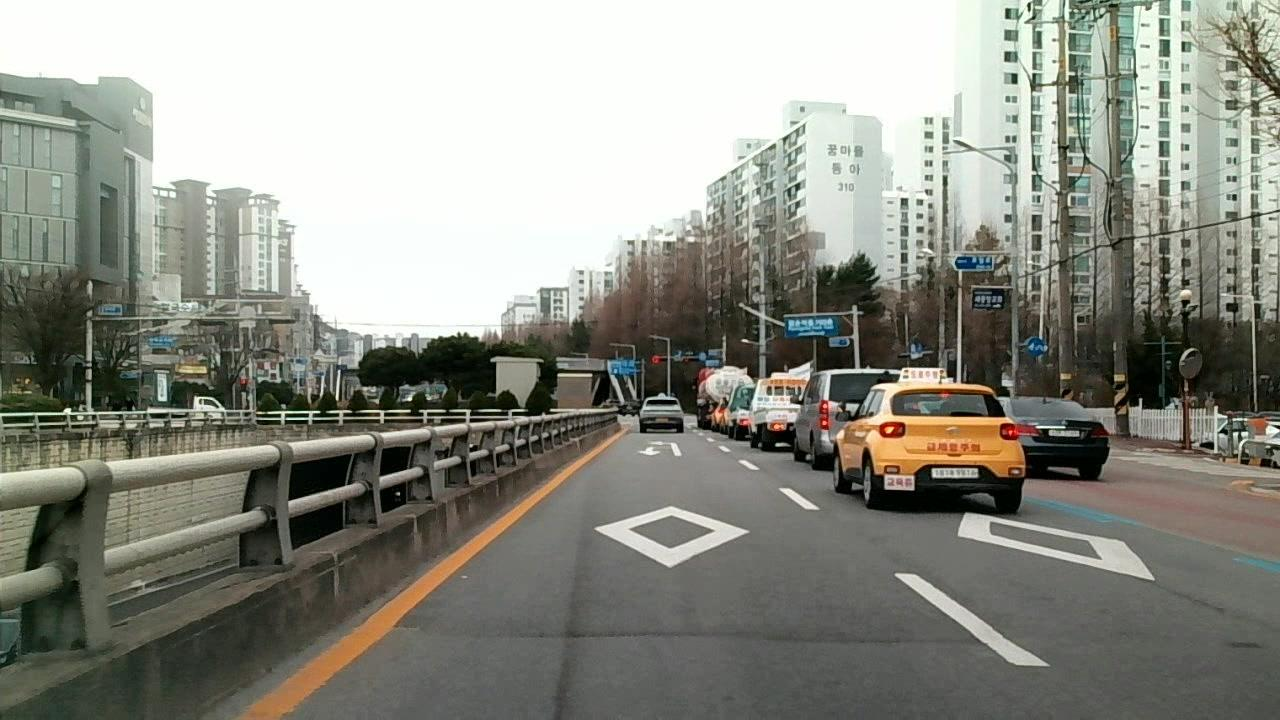hcrack: (410, 623, 945, 647)
vcrack: (1150, 578, 1224, 610)
